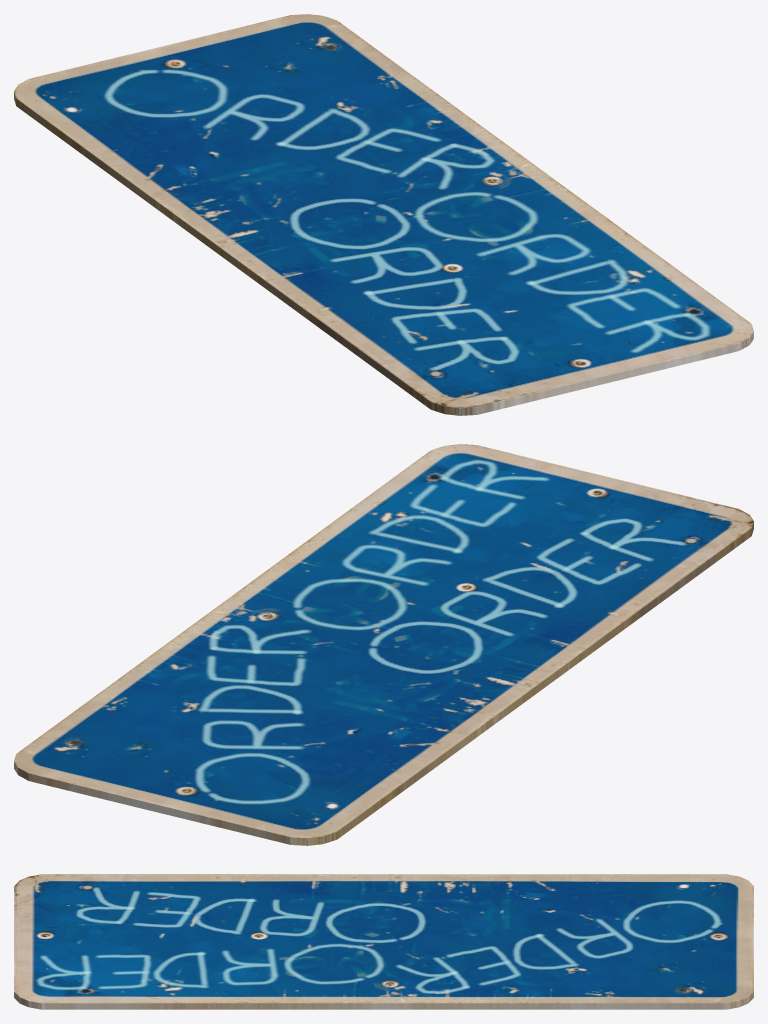
File: Sign_Order.FBX
3 renders of one model, top to bottom at view 1: azimuth 30°, elevation 25°; view 2: azimuth 150°, elevation 25°; view 3: azimuth 270°, elevation 25°, orthographic. The views are drawn at different scales.
Visible parts, largest first — view 1: Sign_Order; view 2: Sign_Order; view 3: Sign_Order.
Part boxes in pixels (bbox=[...]): Sign_Order: bbox=[14, 14, 753, 415]; Sign_Order: bbox=[14, 444, 753, 845]; Sign_Order: bbox=[14, 874, 753, 1009].
Bounding box in the file's own units: 54.83 × 1.25 × 133.
Materials: 1 (1 with a texture image).
